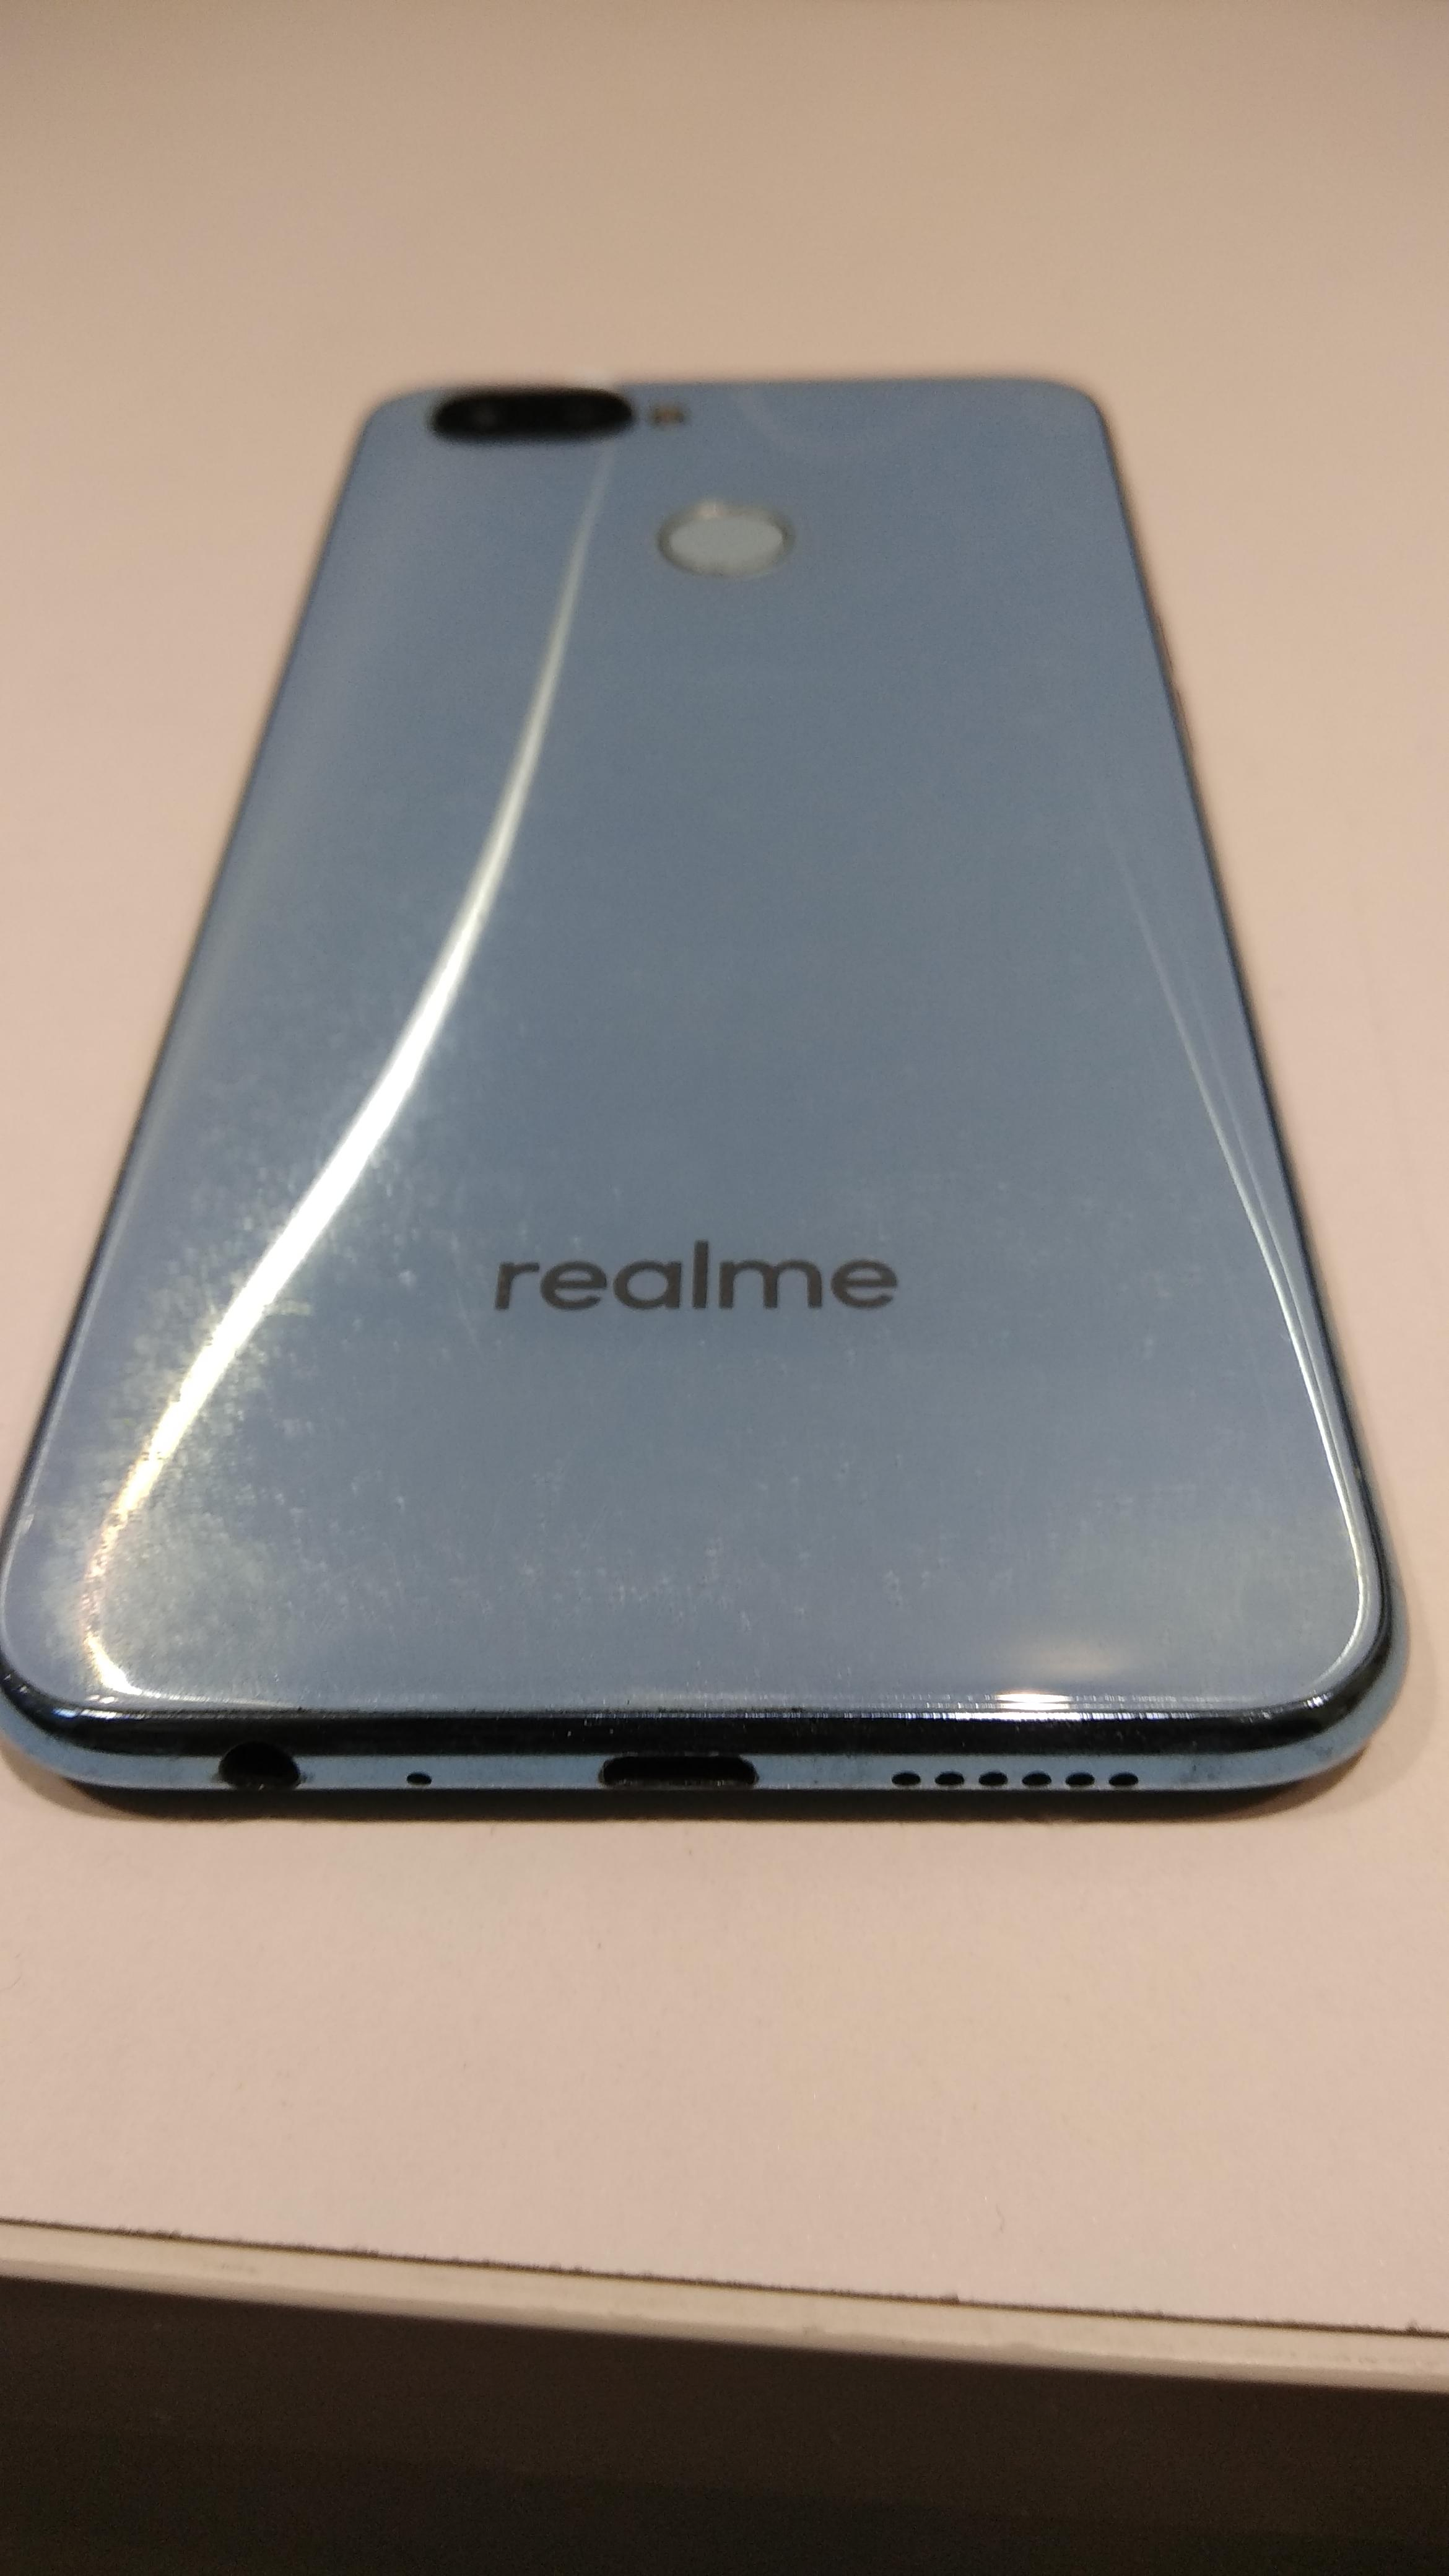Phone: (12, 327, 1449, 1867)
